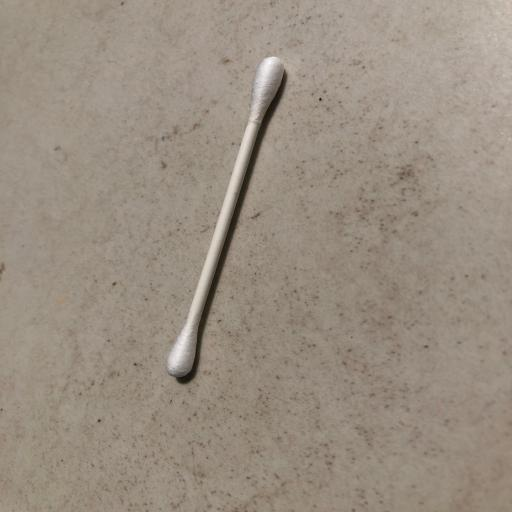waste: (147, 51, 326, 386)
